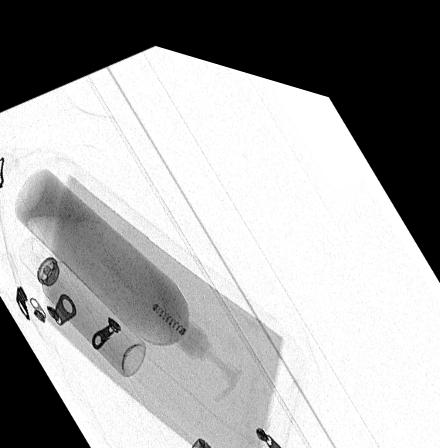Sprayer: (17, 235, 145, 370)
